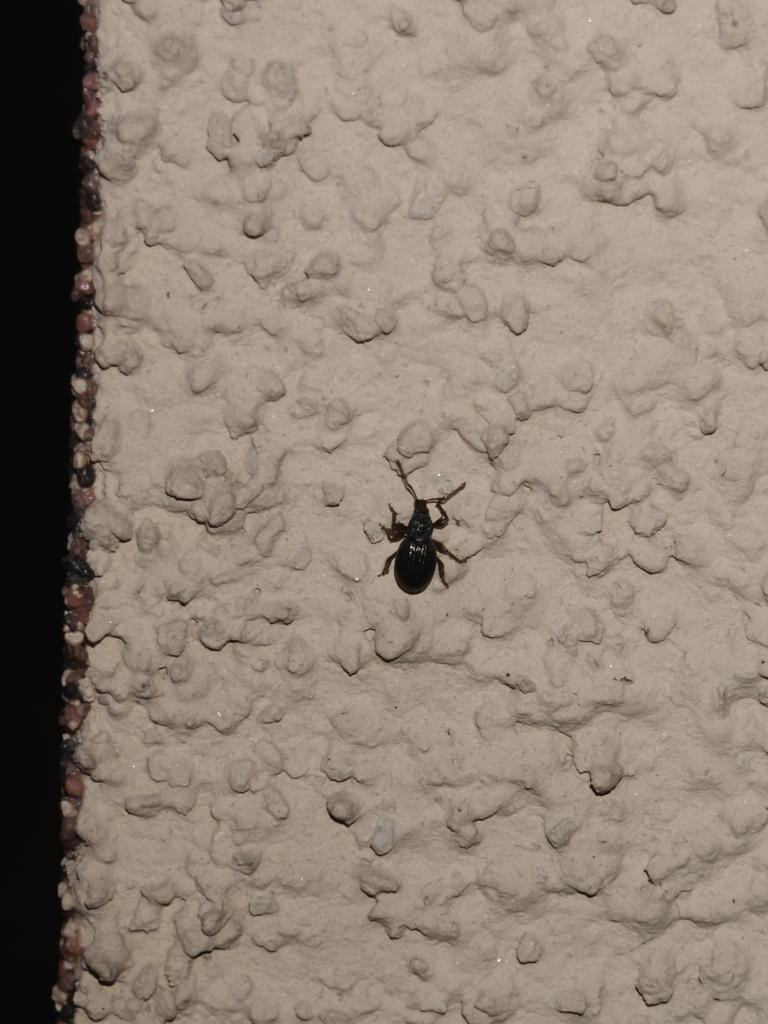weevils: (327, 436, 509, 636)
